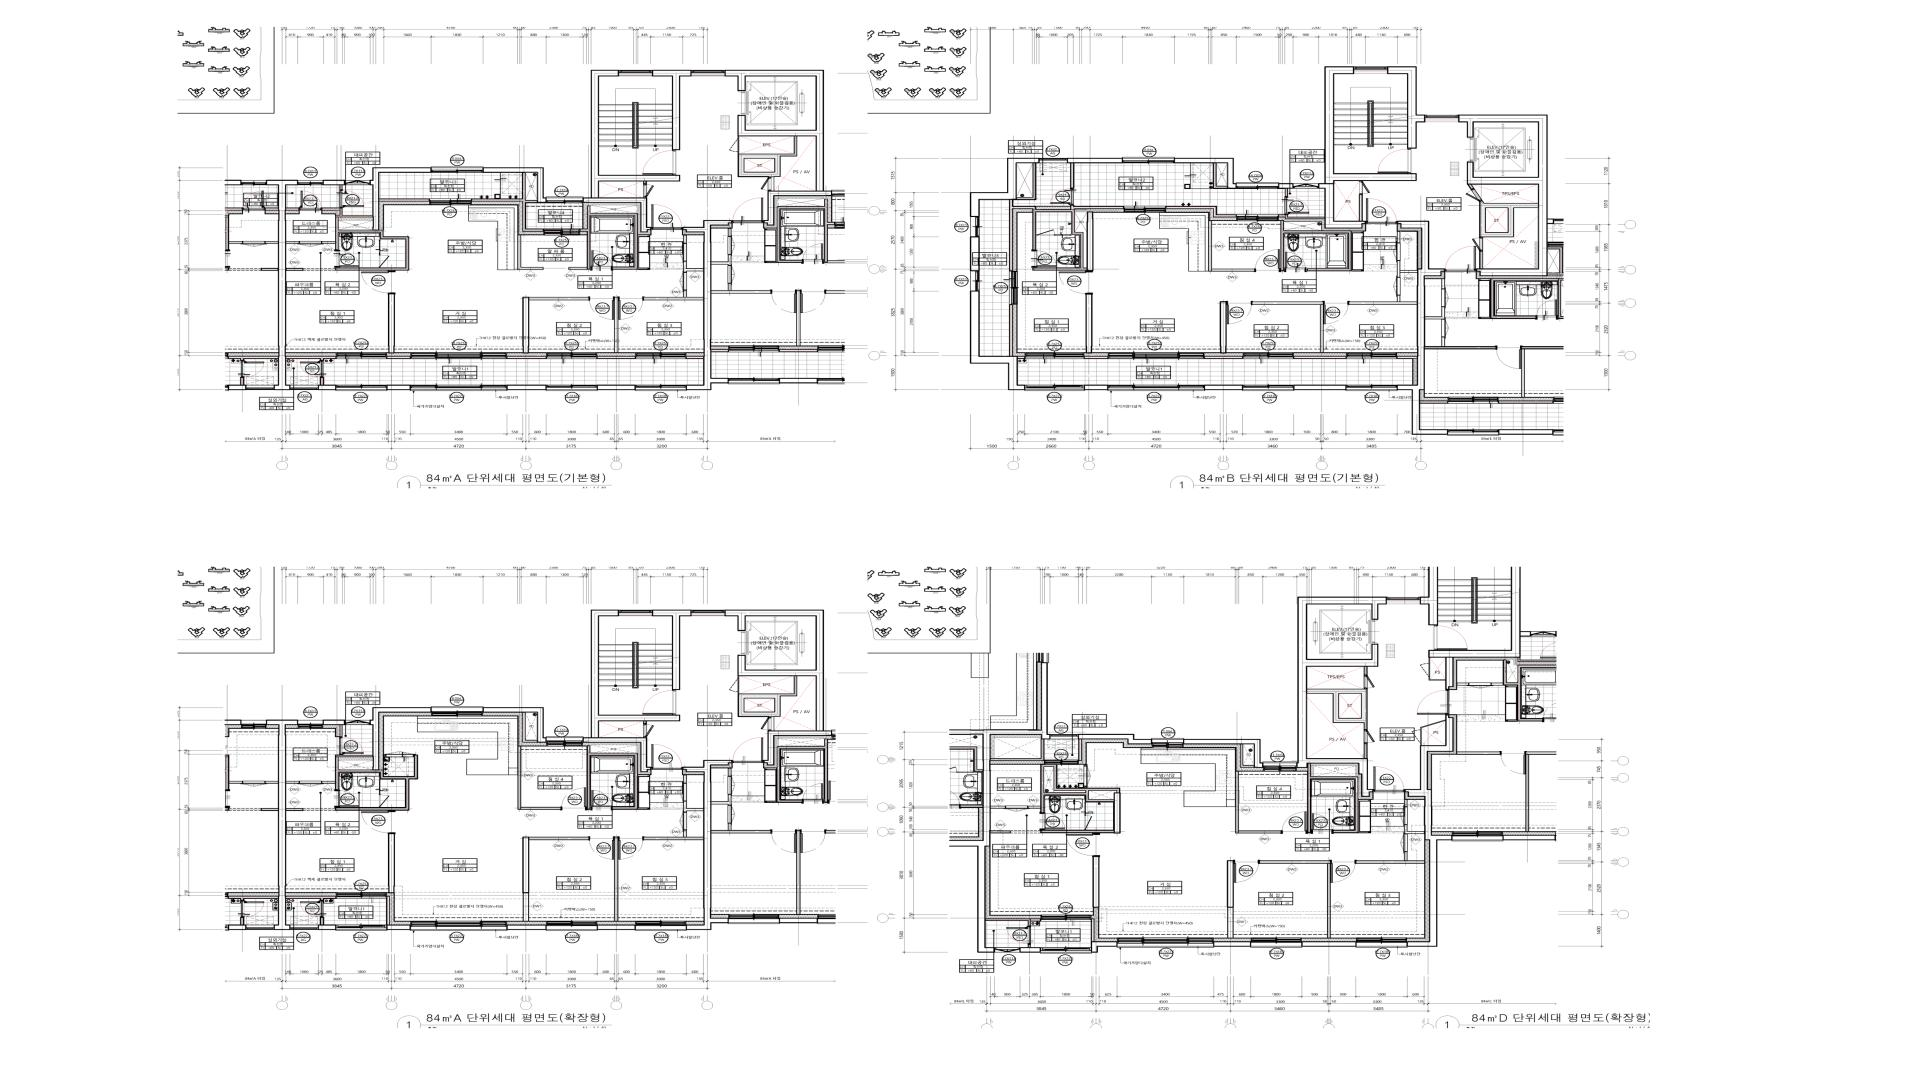door: (642, 150, 676, 175), (1377, 149, 1412, 173), (651, 742, 682, 770), (1373, 766, 1404, 793), (651, 204, 683, 231), (1435, 625, 1468, 650), (642, 691, 676, 715), (361, 811, 396, 835), (361, 270, 396, 294), (1059, 270, 1093, 294), (1366, 198, 1396, 224), (1067, 833, 1100, 857), (1445, 247, 1476, 272), (617, 836, 645, 860), (1233, 860, 1261, 884), (617, 297, 645, 320), (1331, 860, 1357, 884), (562, 787, 587, 811), (589, 836, 615, 860), (589, 297, 615, 320), (1324, 302, 1350, 324), (1282, 811, 1307, 833), (1255, 249, 1280, 272), (1226, 302, 1251, 324), (1039, 812, 1065, 831), (591, 251, 613, 272), (299, 190, 322, 211), (339, 737, 364, 756), (1284, 196, 1309, 215), (1031, 249, 1056, 268), (591, 790, 612, 811), (1284, 252, 1307, 272), (339, 190, 364, 207), (334, 790, 359, 807), (1006, 927, 1031, 944), (334, 251, 359, 268), (1312, 814, 1333, 833), (299, 901, 323, 918), (299, 361, 324, 377), (1050, 189, 1073, 204), (1465, 189, 1482, 204), (729, 136, 740, 154), (1470, 237, 1484, 252), (729, 676, 740, 694), (1364, 729, 1375, 744), (644, 182, 654, 198), (644, 721, 654, 737), (1364, 675, 1375, 688), (299, 781, 322, 787), (1084, 765, 1091, 787), (1006, 806, 1029, 812), (761, 717, 771, 731), (378, 255, 389, 268), (378, 795, 389, 807), (1360, 182, 1370, 194), (1036, 229, 1055, 236), (299, 241, 322, 247), (1084, 815, 1092, 829)
wall: (1298, 596, 1387, 796), (725, 609, 832, 766), (725, 70, 832, 225), (977, 731, 1051, 953), (1319, 66, 1418, 228), (583, 609, 680, 773), (583, 70, 680, 232), (1458, 115, 1548, 276), (1428, 543, 1522, 690), (1404, 715, 1455, 947), (1396, 222, 1448, 435), (682, 760, 733, 930), (683, 220, 733, 390), (1009, 200, 1125, 272), (266, 179, 298, 390), (266, 720, 298, 930), (522, 836, 589, 920), (971, 291, 1026, 390), (1261, 861, 1331, 938), (335, 754, 418, 811), (471, 173, 545, 232), (969, 158, 1039, 218), (369, 167, 431, 231), (369, 707, 431, 770), (335, 218, 409, 270), (1040, 765, 1121, 812), (522, 297, 589, 353), (580, 206, 638, 269), (1280, 220, 1352, 272), (1307, 764, 1358, 833), (1253, 302, 1324, 352), (587, 745, 638, 810), (651, 70, 692, 150), (651, 609, 691, 690), (1387, 66, 1425, 149), (1420, 543, 1458, 625), (1159, 212, 1209, 272), (1236, 771, 1282, 833), (518, 746, 562, 810), (1308, 688, 1367, 729), (1183, 738, 1263, 767), (483, 167, 547, 203), (483, 707, 546, 742), (1209, 222, 1254, 272), (1480, 200, 1538, 237), (1174, 158, 1237, 189), (990, 740, 1044, 761), (1042, 767, 1085, 793), (517, 235, 543, 270), (1166, 206, 1237, 218), (1357, 852, 1424, 864), (1077, 735, 1153, 745), (1017, 164, 1036, 200), (1349, 295, 1418, 305), (1420, 720, 1445, 745), (644, 290, 703, 301), (1226, 860, 1234, 939), (1338, 694, 1361, 719), (645, 831, 704, 840), (1486, 208, 1509, 232), (1085, 294, 1093, 353), (522, 713, 537, 742), (1092, 857, 1100, 907), (388, 294, 394, 352), (388, 835, 394, 893), (1087, 212, 1093, 270), (336, 207, 372, 218), (1396, 261, 1418, 278), (1429, 658, 1445, 680), (1220, 302, 1226, 353), (615, 837, 618, 922), (1213, 164, 1226, 189), (1240, 745, 1254, 767), (971, 237, 980, 272), (1091, 942, 1117, 953), (1067, 158, 1124, 164), (986, 919, 1031, 926), (1040, 829, 1114, 833), (1302, 942, 1357, 947), (1294, 385, 1346, 390), (1114, 793, 1121, 833), (286, 356, 336, 361), (286, 895, 336, 901), (683, 261, 703, 273), (683, 800, 703, 812), (615, 297, 618, 353), (506, 924, 547, 930), (506, 385, 546, 390), (1204, 385, 1244, 390), (1009, 305, 1013, 356), (597, 385, 636, 390), (597, 924, 636, 930), (1213, 942, 1251, 947), (1404, 825, 1424, 835), (1278, 215, 1324, 219), (323, 179, 345, 186), (1019, 947, 1042, 953), (1294, 356, 1346, 359), (380, 199, 430, 202), (386, 385, 411, 390), (386, 924, 411, 930), (1069, 164, 1075, 189), (1358, 195, 1364, 220), (1084, 385, 1108, 390), (323, 720, 345, 725), (1077, 740, 1083, 761), (386, 897, 390, 924), (506, 356, 547, 359), (596, 356, 636, 359), (1204, 356, 1244, 359), (318, 385, 336, 390), (335, 754, 372, 757), (318, 924, 336, 930), (1091, 919, 1095, 942), (1278, 183, 1294, 189), (1480, 251, 1484, 269), (322, 207, 340, 211), (386, 356, 411, 359), (1084, 356, 1109, 359), (1364, 744, 1367, 758), (990, 831, 1011, 833), (1396, 356, 1416, 359), (568, 268, 587, 270), (339, 725, 343, 737), (1396, 231, 1400, 243), (286, 268, 303, 270), (686, 356, 703, 359), (286, 808, 303, 811), (319, 377, 324, 385), (990, 806, 1006, 808), (683, 235, 687, 244), (286, 241, 299, 244), (322, 241, 335, 244), (286, 208, 299, 211), (286, 781, 299, 783), (322, 781, 335, 783), (319, 918, 324, 924), (1468, 185, 1474, 190), (683, 775, 687, 783), (1364, 667, 1367, 675), (1404, 799, 1408, 807), (1029, 806, 1040, 808), (1031, 919, 1042, 922), (1286, 189, 1288, 196), (1018, 356, 1025, 359), (339, 186, 343, 190), (1027, 944, 1031, 947)
window: (1117, 938, 1213, 948), (411, 920, 506, 931), (410, 385, 506, 392), (411, 352, 506, 359), (1109, 352, 1204, 359), (1109, 385, 1204, 392), (1251, 938, 1302, 948), (1357, 938, 1407, 948), (431, 707, 483, 716), (636, 922, 686, 931), (547, 922, 596, 931), (546, 736, 583, 746), (1026, 385, 1084, 392), (1026, 352, 1084, 359), (546, 385, 597, 392), (431, 166, 483, 173), (336, 352, 386, 359), (336, 893, 386, 899), (336, 924, 386, 931), (1040, 947, 1091, 953), (636, 352, 686, 359), (636, 385, 686, 392), (1124, 157, 1174, 164), (1346, 352, 1396, 359), (1244, 385, 1294, 392), (1042, 915, 1091, 922), (547, 352, 596, 359), (1348, 385, 1396, 392), (1263, 762, 1298, 771), (1009, 272, 1018, 305), (1153, 738, 1183, 748), (545, 228, 579, 236), (430, 199, 471, 206), (1125, 206, 1166, 212), (1237, 182, 1278, 189), (1237, 215, 1278, 222), (336, 385, 386, 390), (1244, 353, 1294, 359), (1354, 66, 1387, 74), (1425, 115, 1458, 123), (547, 196, 583, 203), (298, 720, 323, 729), (1458, 543, 1491, 550), (1387, 597, 1420, 604), (971, 272, 980, 291), (1044, 760, 1079, 765), (971, 218, 980, 236), (290, 924, 318, 930), (290, 385, 318, 390), (1051, 735, 1077, 740), (1040, 158, 1067, 164), (1294, 183, 1319, 189), (345, 720, 369, 725), (996, 947, 1019, 952), (298, 181, 323, 185), (345, 181, 369, 185)
